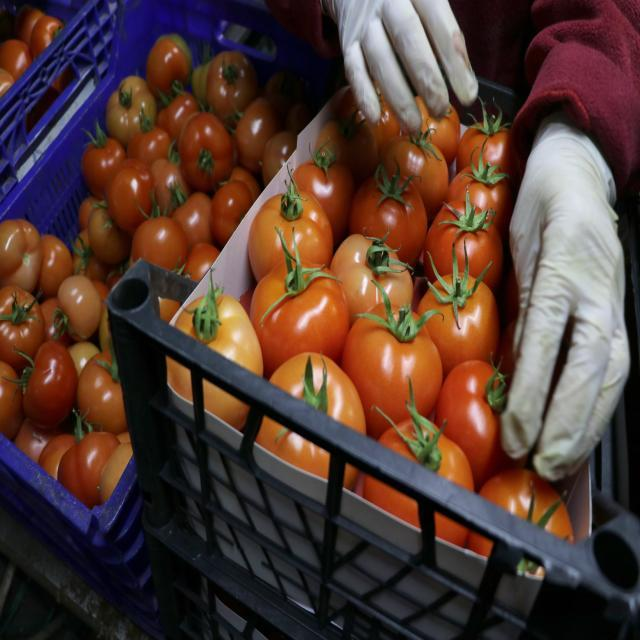kirmizi: (16, 338, 78, 430)
sari: (328, 230, 418, 322)
